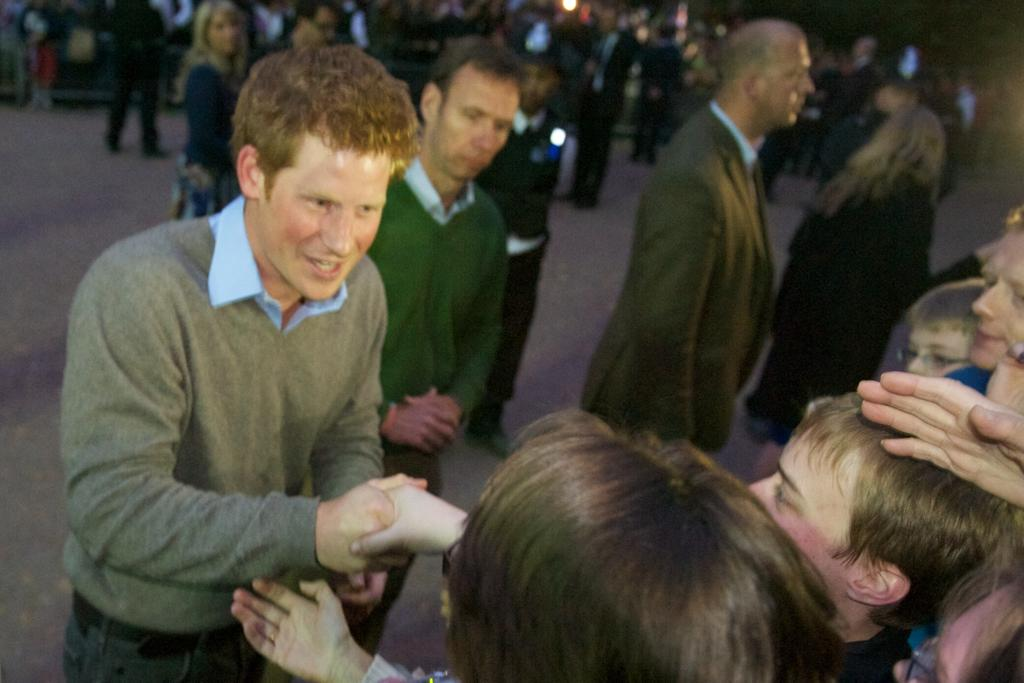face: (739, 446, 855, 625), (263, 153, 389, 302), (430, 83, 515, 178), (909, 329, 979, 439), (972, 237, 1024, 367), (757, 48, 812, 126), (514, 66, 552, 109), (208, 12, 238, 53)
